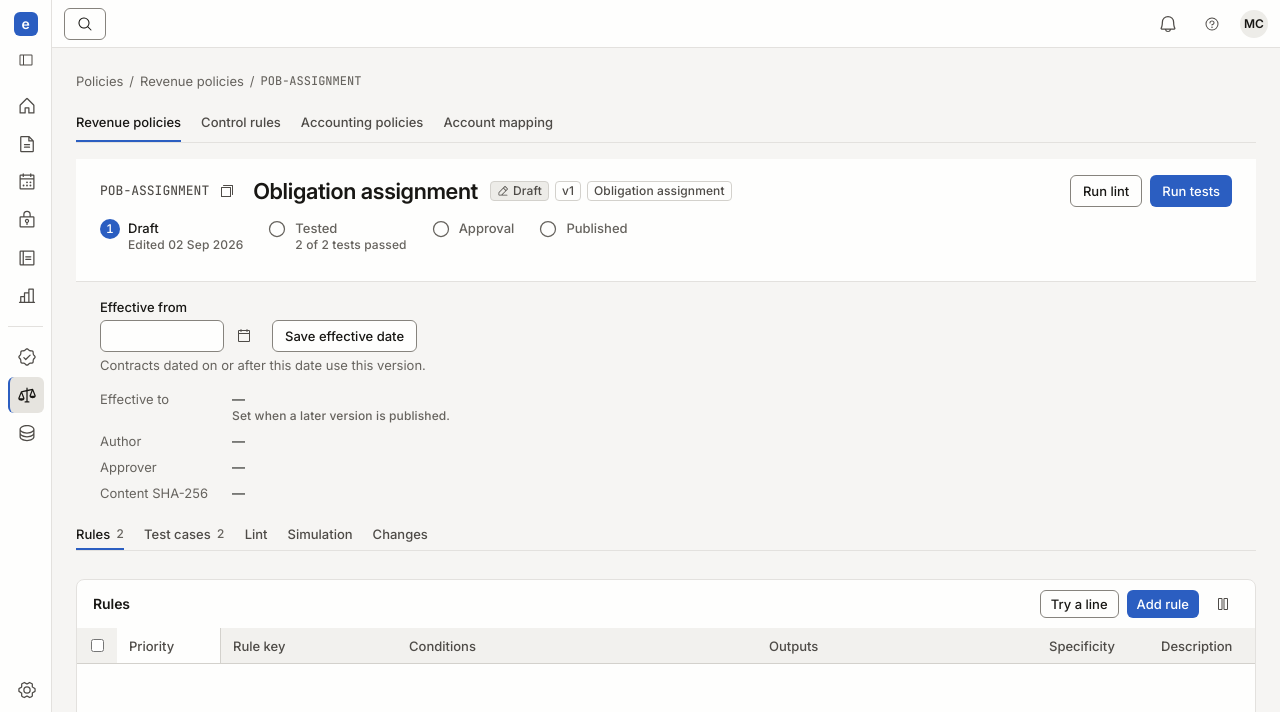
Scenario: SF-13:rule-set-version effective date (DS-I18N-08; supervisor ruling R-59) › an assignment rule set is chosen by a contract date: today is sent as 12:00:00Z of today, and the date is required
# Without a date nothing is sent, and the field says so.
Step 1. Click the button "Save effective date" → [345, 336], box x1=272 y1=320 x2=417 y2=352
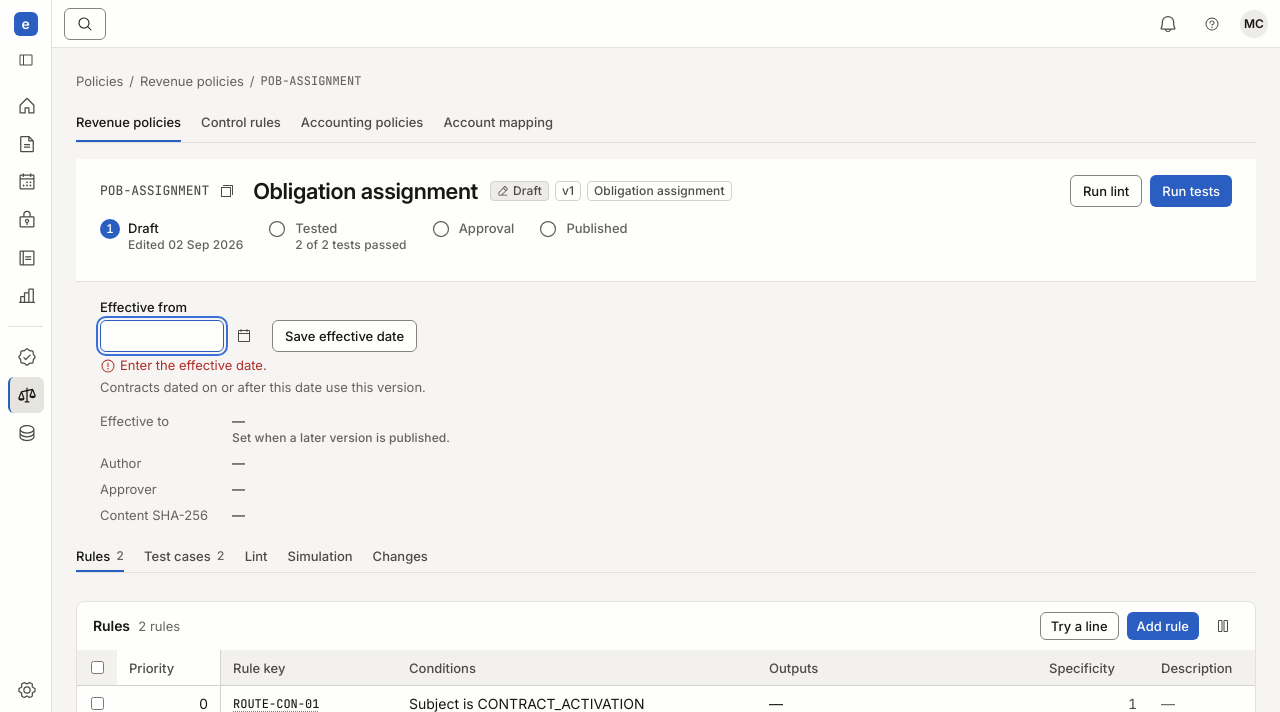
expect the text "Enter the effective date." is shown: met, box x1=100 y1=357 x2=267 y2=374
Step 2. Type "2026-10-01" into the field labelled "Effective from" → [162, 336], box x1=100 y1=320 x2=224 y2=352
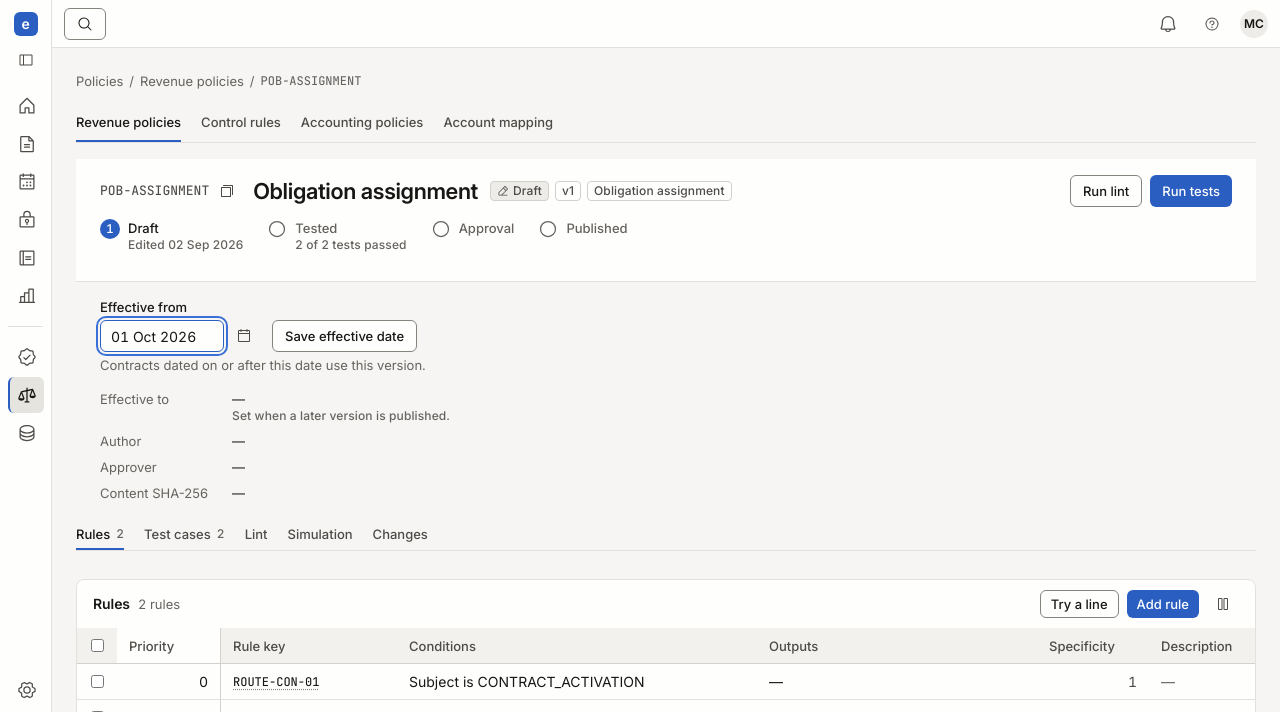
Step 3. Click the button "Save effective date" → [345, 336], box x1=272 y1=320 x2=417 y2=352
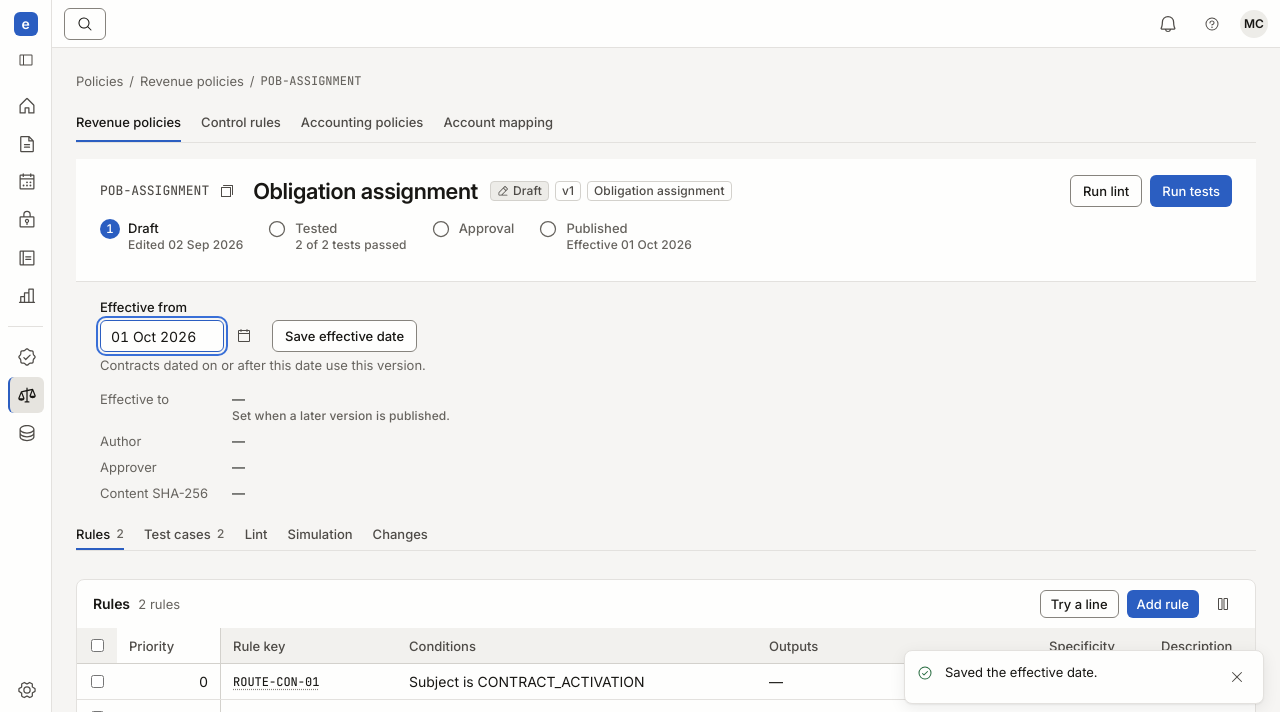
expect the field labelled "Effective from" holds "01 Oct 2026": met, box x1=100 y1=320 x2=224 y2=352
expect the text "Saved the effective date." is shown: met, box x1=945 y1=663 x2=1098 y2=681
